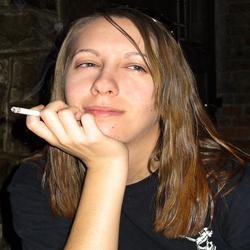smoking: (8, 99, 129, 188)
